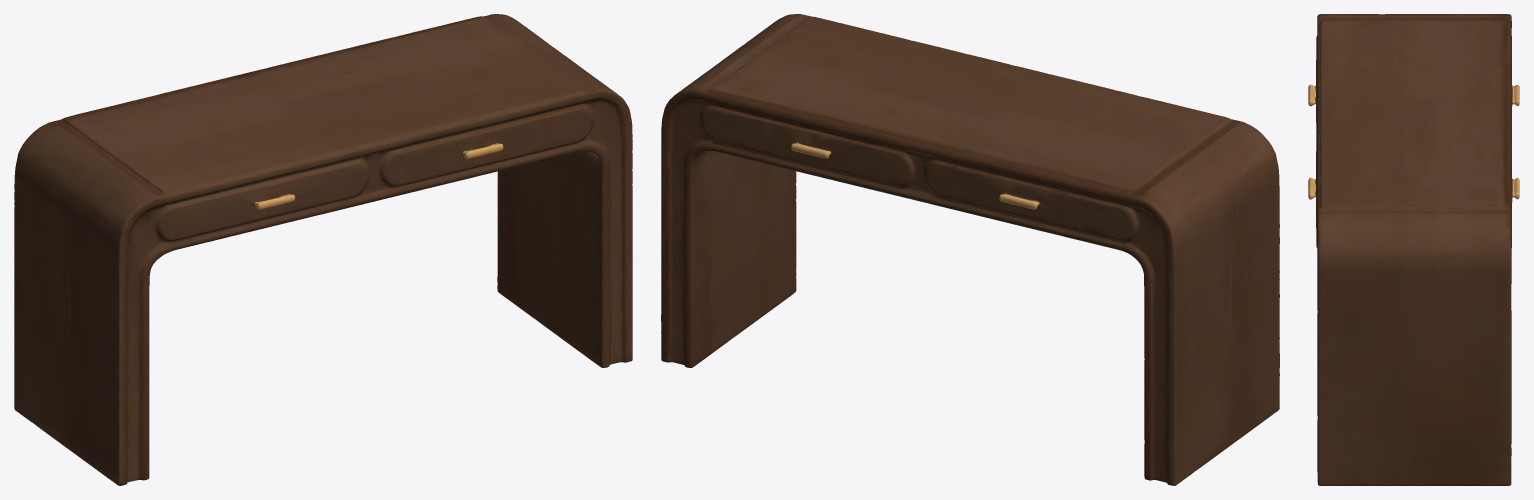
Rendered from fm_desk_walnut.glb.
The picture shows the model from 3 angles, left to right: view 1: azimuth 30°, elevation 25°; view 2: azimuth 150°, elevation 25°; view 3: azimuth 270°, elevation 25°; orthographic projection. The views are drawn at different scales.
Visible parts, largest first — view 1: geometry_0; view 2: geometry_0; view 3: geometry_0.
Part boxes in pixels (<box>): geometry_0: <box>14,14,632,485</box>; geometry_0: <box>661,14,1279,485</box>; geometry_0: <box>1308,14,1519,485</box>.
Bounding box in the file's own units: 1 × 0.525 × 0.3902.
1 material, 1 textured.
